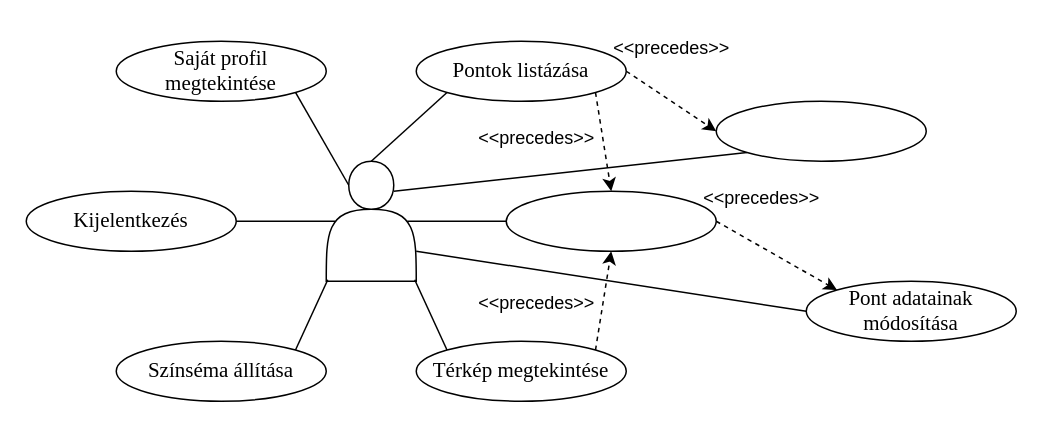
This 1043x428 diagram has some shape labels left out. The box of each missing label's shape, as (x1, y1, x2, y2) in pixels:
Felhaszn.: (325, 160, 416, 281)
Pont adatainak részletezése: (505, 190, 716, 251)
Pont bejelentése: (715, 100, 926, 161)
